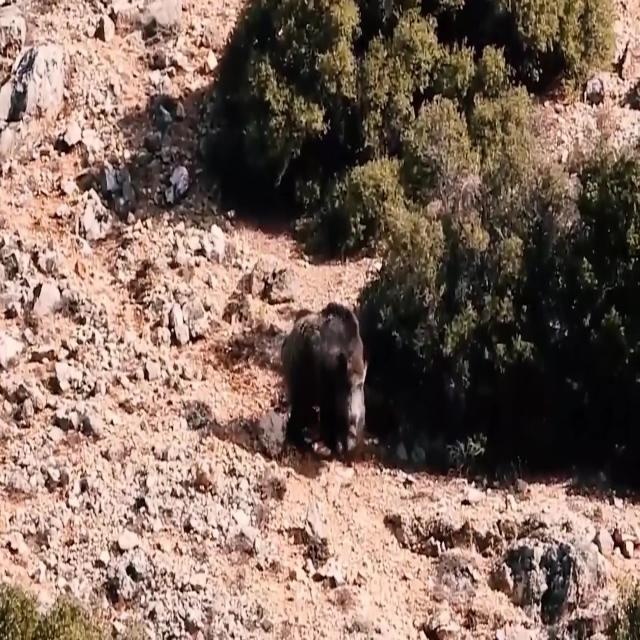pig: (282, 279, 380, 455)
